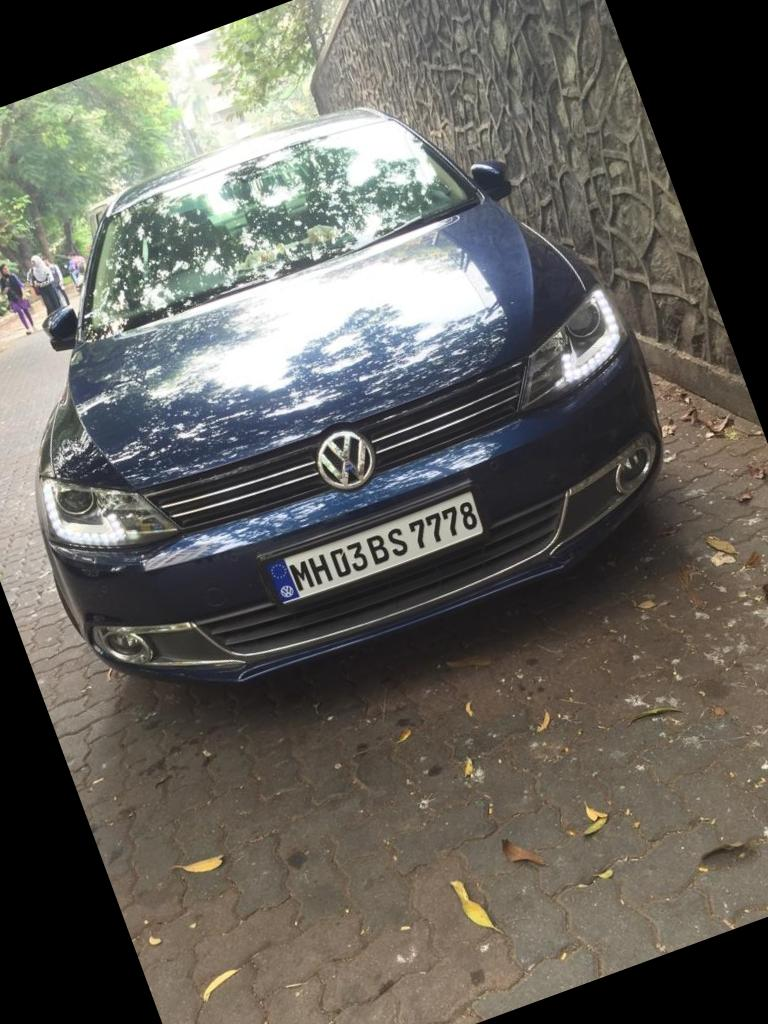plate: (256, 470, 505, 625)
